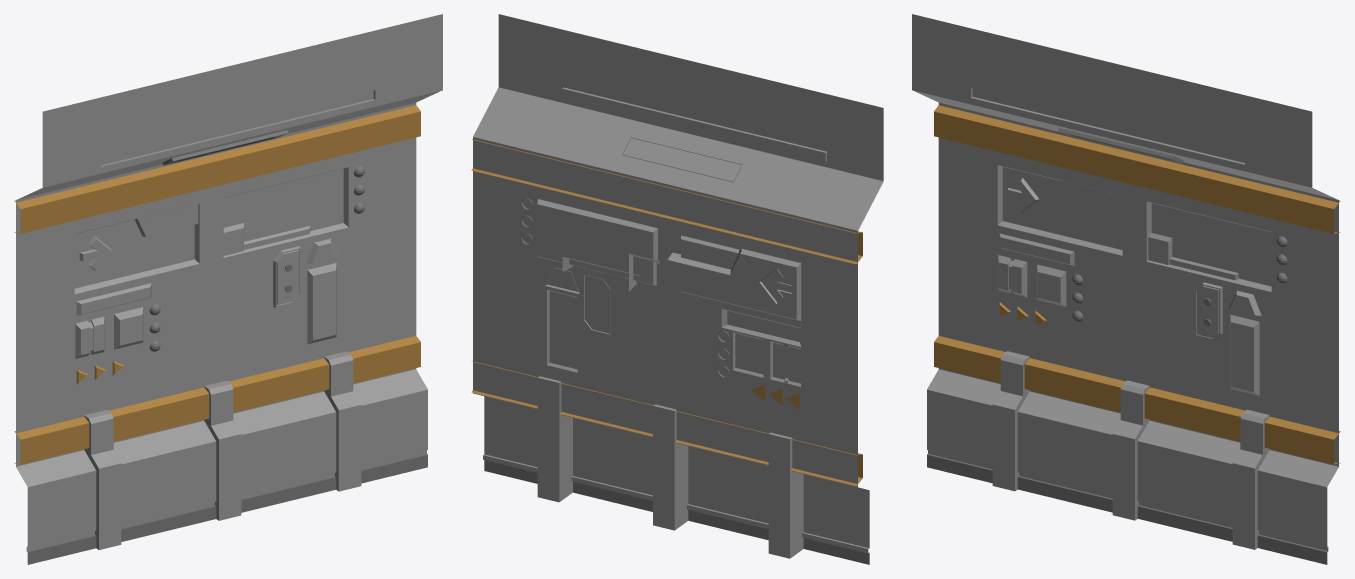
File: wall-4-60d3f3389f.glb
3 renders of one model, left to right at view 1: azimuth 30°, elevation 25°; view 2: azimuth 150°, elevation 25°; view 3: azimuth 330°, elevation 25°, orthographic. The views are drawn at different scales.
Visible parts, largest first — view 1: Wall_4.obj; view 2: Wall_4.obj; view 3: Wall_4.obj.
Part boxes in pixels (left/top/right/bottom): Wall_4.obj: left=14, top=14, right=442, bottom=564; Wall_4.obj: left=471, top=14, right=883, bottom=564; Wall_4.obj: left=912, top=14, right=1340, bottom=564.
Size of the model in its own units: 4 by 4.43 by 0.5726.
